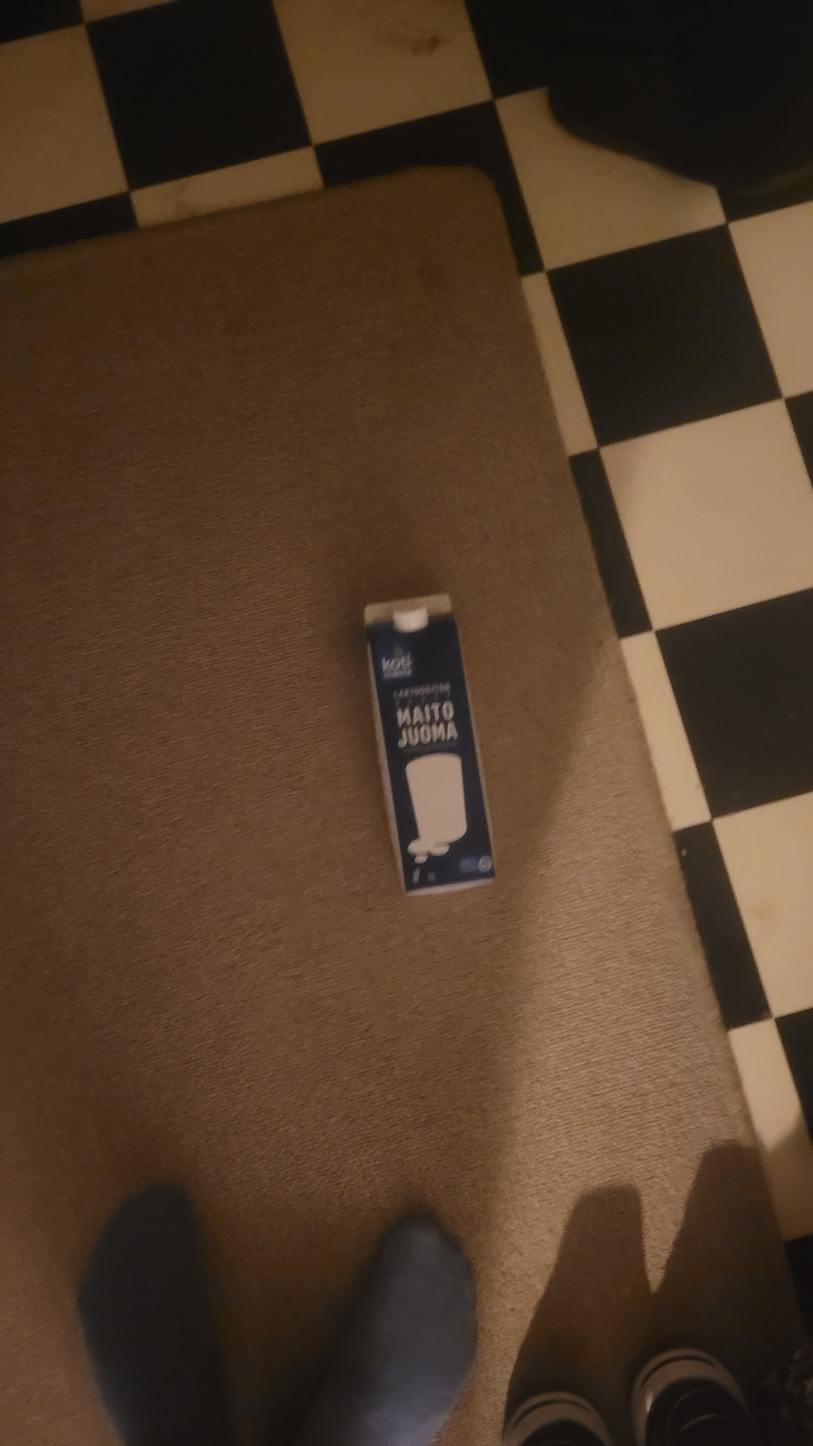Dryckeskartong: (359, 605, 461, 903)
